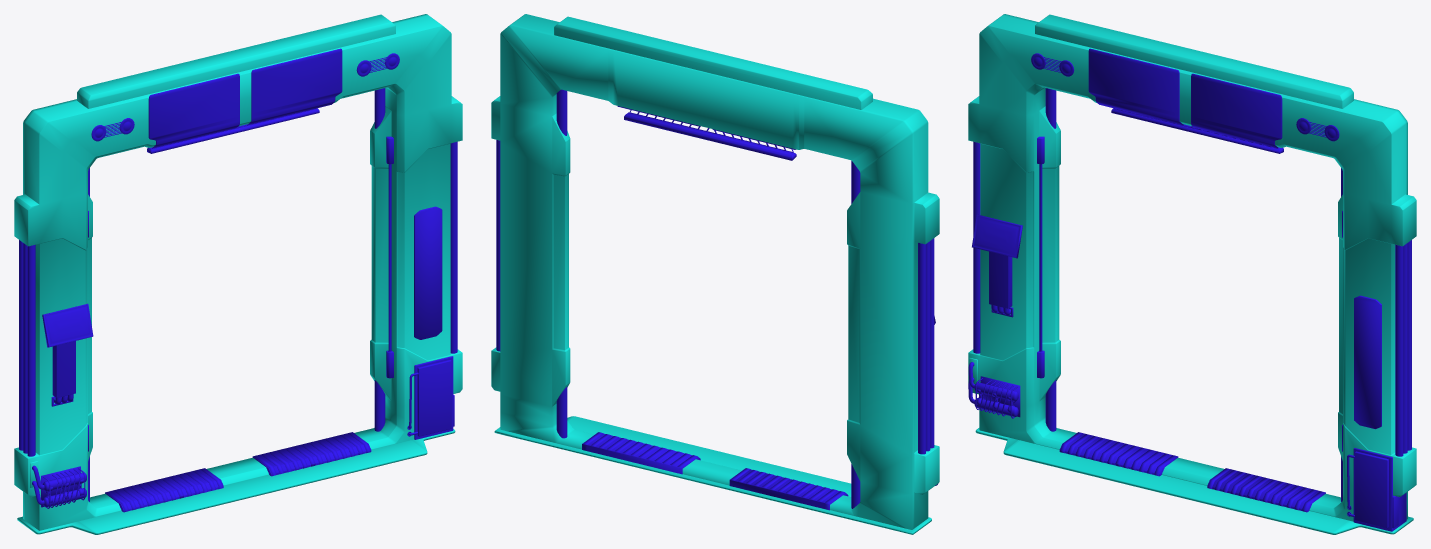
The model's file is Door02_Frame01.FBX.
The picture shows the model from 3 angles, left to right: view 1: azimuth 30°, elevation 25°; view 2: azimuth 150°, elevation 25°; view 3: azimuth 330°, elevation 25°; orthographic projection.
Visible parts, largest first — view 1: SM_Door02_Frame01; view 2: SM_Door02_Frame01; view 3: SM_Door02_Frame01.
Boxes of the visible parts, x1=… form: SM_Door02_Frame01: x1=14, y1=14, x2=462, y2=534; SM_Door02_Frame01: x1=491, y1=14, x2=939, y2=534; SM_Door02_Frame01: x1=968, y1=14, x2=1416, y2=534.
Size of the model in its own units: 323 by 299 by 45.48.
